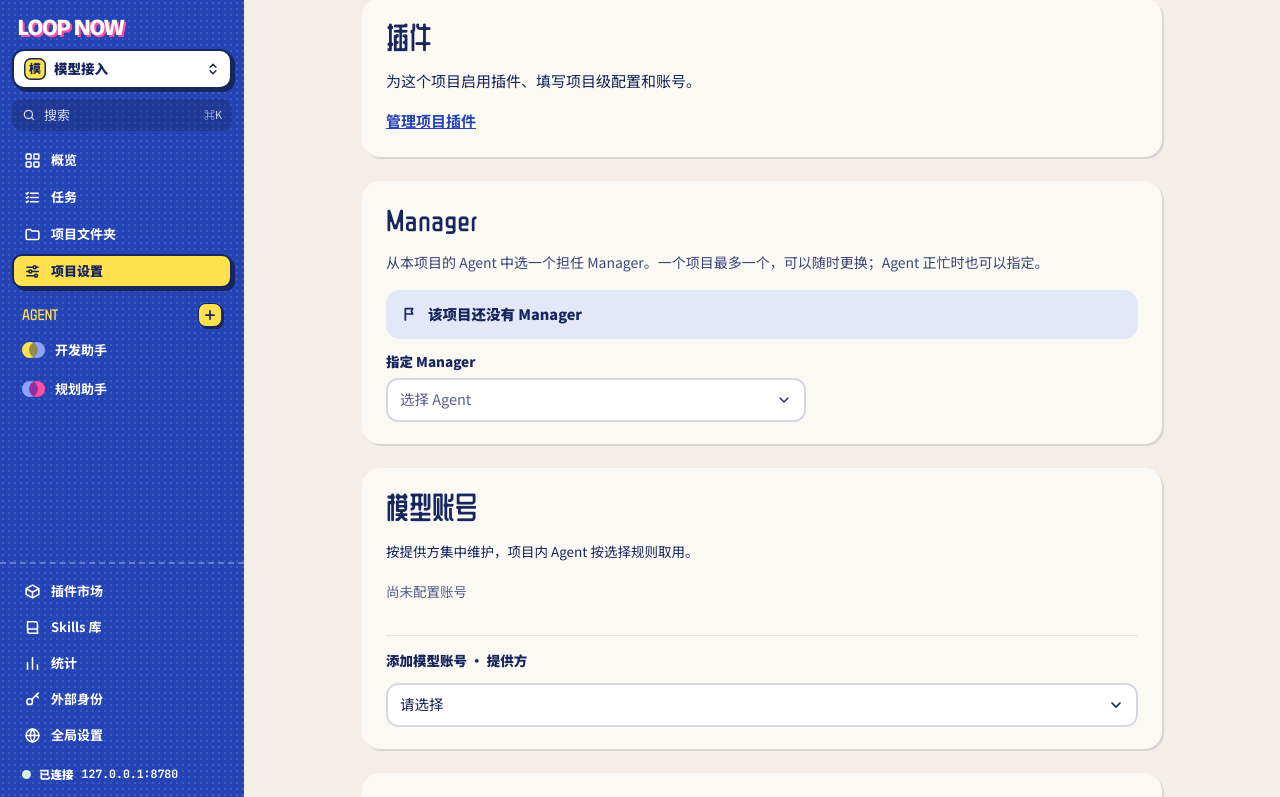
项目 Manager › 指定、更换、取消 Manager；列表与详情标出 Manager
The image size is (1280, 797).
(page scrolled)
Expected: the text "该项目还没有 Manager" is shown, left=386, top=290, right=1138, bottom=339
Step 1. Click the dropdown named "指定 Manager" → [436, 399], box left=386, top=378, right=806, bottom=422
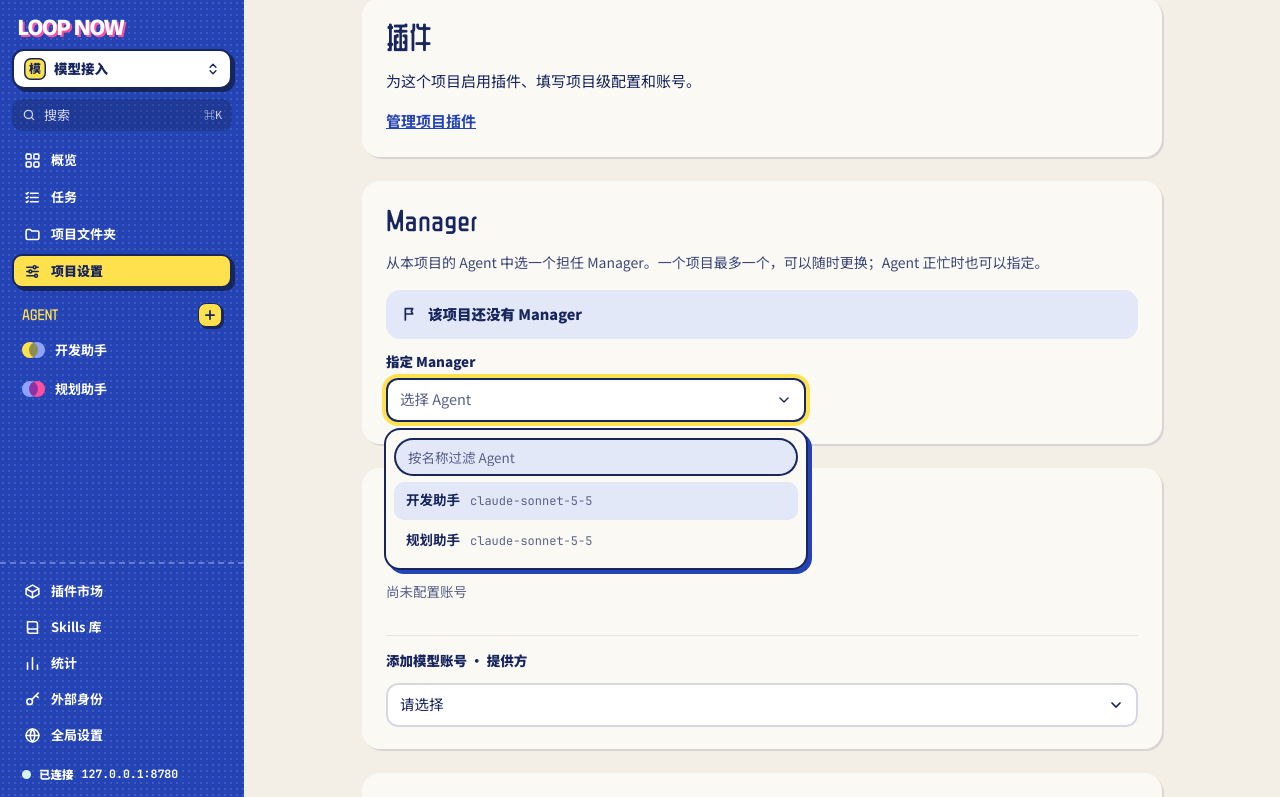
Step 2. Click the option "开发助手 claude-sonnet-5-5" → [433, 500], box left=394, top=482, right=798, bottom=520
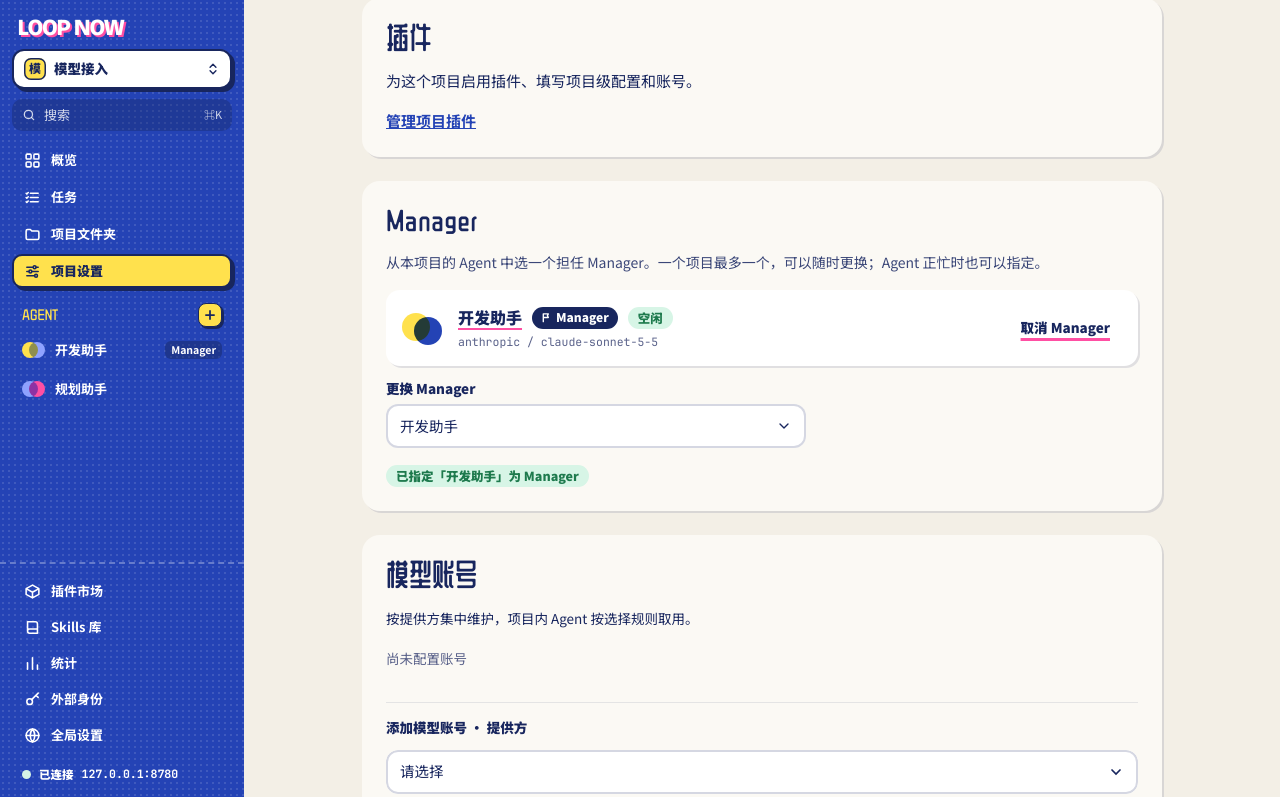
Expected: the text "已指定「开发助手」为 Manager" is shown, left=386, top=465, right=589, bottom=487
Step 3. Click the dropdown named "更换 Manager" → [429, 426], box left=386, top=404, right=806, bottom=448
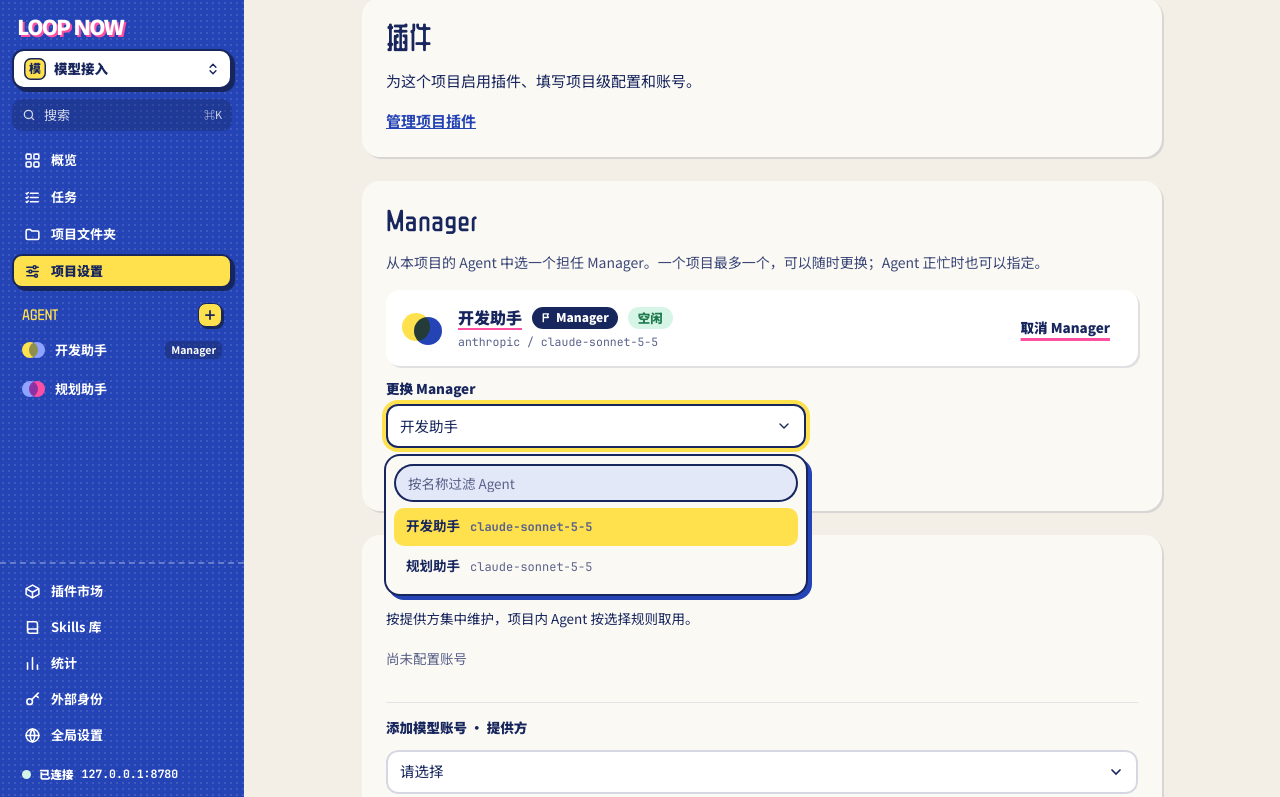
Step 4. Click the option "规划助手 claude-sonnet-5-5" → [499, 566], box left=406, top=557, right=592, bottom=575
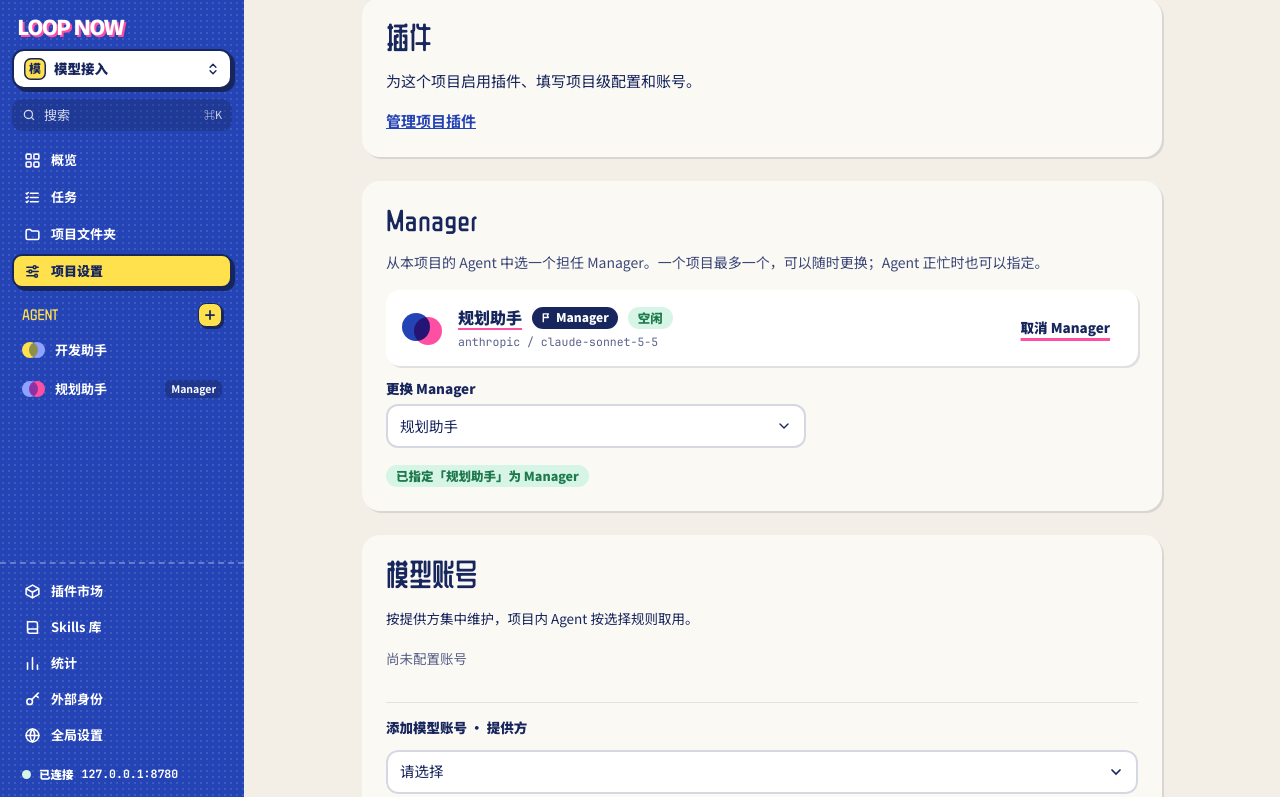
Expected: the text "已指定「规划助手」为 Manager" is shown, left=386, top=465, right=589, bottom=487
Step 5. Click the button "取消 Manager" → [1065, 328], box left=1009, top=310, right=1122, bottom=346
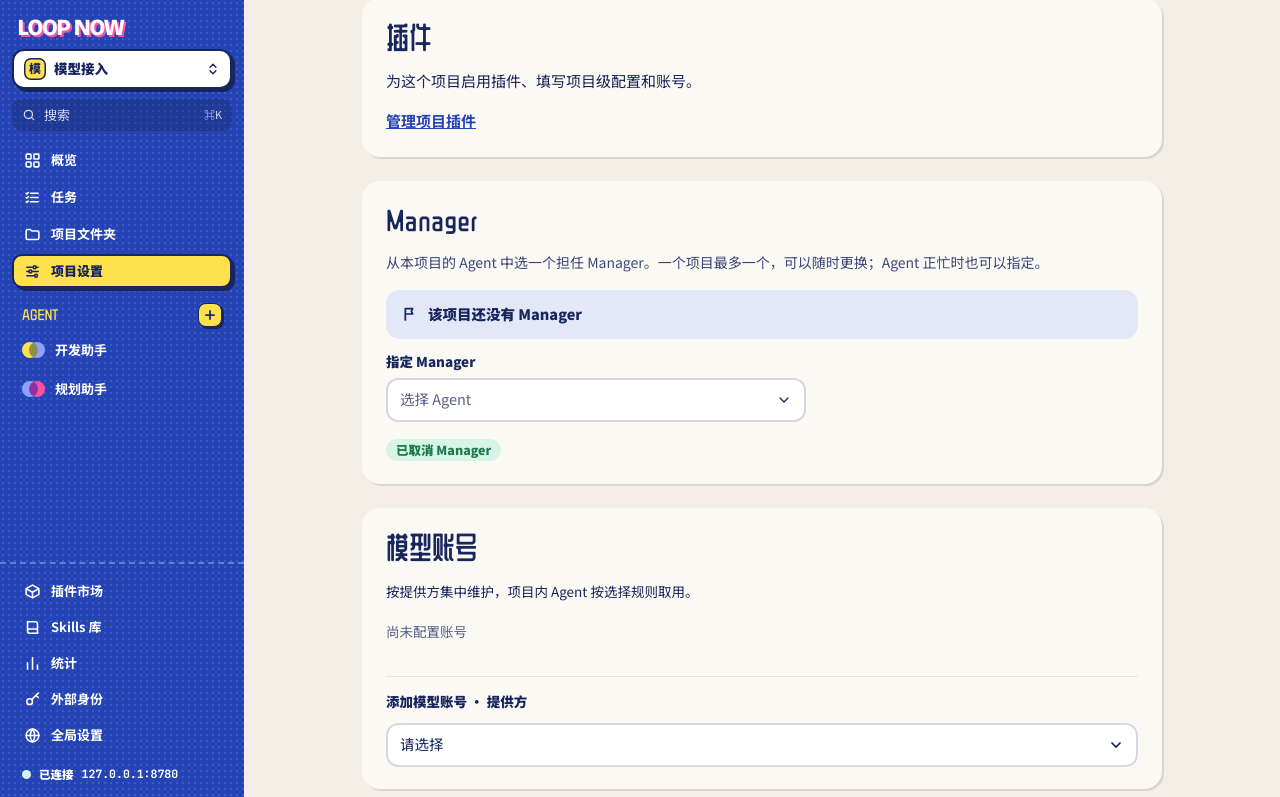
Expected: the text "已取消 Manager" is shown, left=386, top=438, right=501, bottom=460
Expected: the text "该项目还没有 Manager" is shown, left=386, top=290, right=1138, bottom=339
